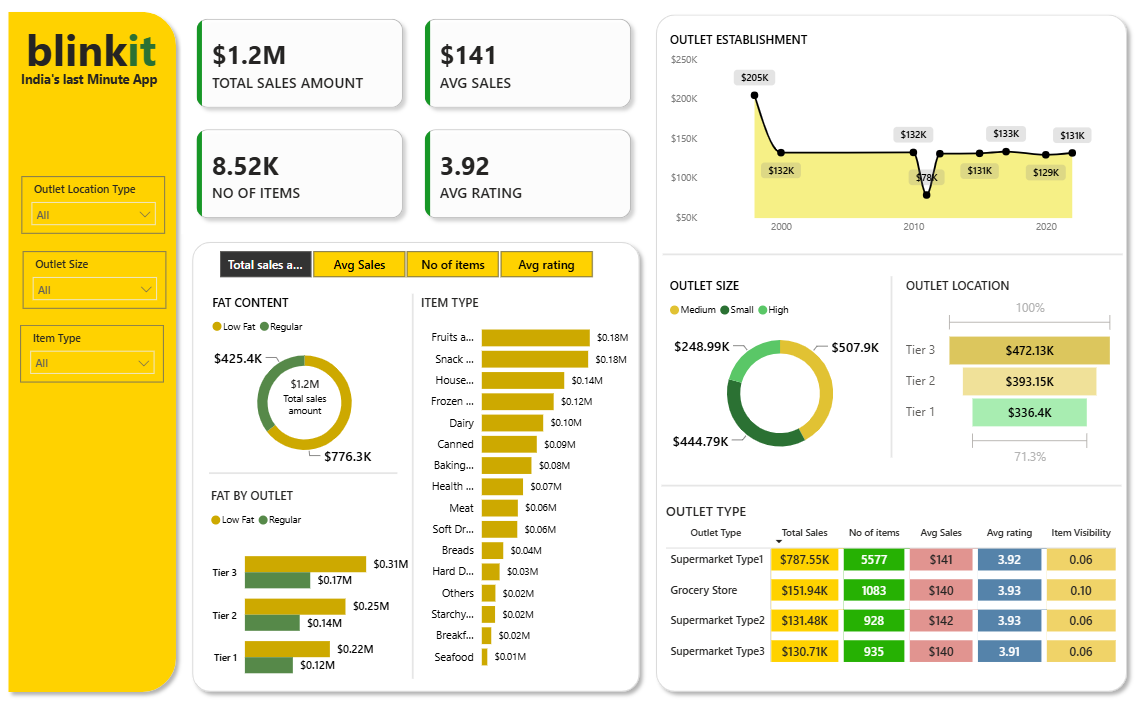

This screenshot's page, from the dashboard's own definition file:
{"tool":"powerbi","page":{"name":"Page 1","canvas":[1300,820],"ordinal":0},"visuals":[{"type":"shape","box":[18.1,26.5,204.9,776.3],"z":0},{"type":"textbox","box":[41.8,39,207.7,92],"z":1000},{"type":"textbox","box":[36.2,96.2,207.7,40.4],"z":2000},{"type":"cardVisual","fields":{"Data":["BlinkIT_Cleaned.Total sales amount","BlinkIT_Cleaned.Avg Sales","BlinkIT_Cleaned.No of items","BlinkIT_Cleaned.Avg rating"]},"box":[220.2,26.5,519.8,256.4],"z":3000},{"type":"shape","box":[223,282.9,517,519.8],"z":4000},{"type":"slicer","fields":{"Values":["Metrics.Metrics"]},"box":[236.9,291.3,465.5,47.4],"z":5000},{"type":"donutChart","title":"FAT CONTENT","fields":{"Y":["BlinkIT_Cleaned.Avg Sales"],"Category":["BlinkIT_Cleaned.Item Fat Content"]},"box":[249.5,349.8,216,197.9],"z":5000},{"type":"cardVisual","fields":{"Data":["BlinkIT_Cleaned.Avg Sales"]},"box":[324.7,437.6,66.9,54.4],"z":6001},{"type":"clusteredBarChart","title":"FAT BY OUTLET","fields":{"Y":["BlinkIT_Cleaned.Avg Sales"],"Category":["BlinkIT_Cleaned.Outlet Location Type"],"Series":["BlinkIT_Cleaned.Item Fat Content"]},"box":[248.1,565.8,230,232.7],"z":7000},{"type":"shape","box":[250.9,543.5,210,12.5],"z":8000},{"type":"shape","box":[461.3,349.8,33.4,429.2],"z":9000},{"type":"barChart","title":"ITEM TYPE","fields":{"Y":["BlinkIT_Cleaned.Avg Sales"],"Category":["BlinkIT_Cleaned.Item Type"]},"box":[482.2,349.8,241.1,429.2],"z":10000},{"type":"shape","box":[740,29.3,543.5,773.5],"z":11000},{"type":"lineChart","title":"OUTLET ESTABLISHMENT","fields":{"Y":["BlinkIT_Cleaned.Total sales amount"],"Category":["BlinkIT_Cleaned.Outlet Establishment Year"]},"box":[756.8,57.1,512.9,235.5],"z":12000},{"type":"shape","box":[756.8,299.6,512.9,12.5],"z":13000},{"type":"donutChart","title":"OUTLET SIZE","fields":{"Y":["Sum(BlinkIT_Cleaned.Total Sales)"],"Category":["BlinkIT_Cleaned.Outlet Size"]},"box":[759.5,331.7,256.4,213.2],"z":13001},{"type":"funnel","title":"OUTLET LOCATION","fields":{"Category":["BlinkIT_Cleaned.Outlet Location Type"],"Y":["Sum(BlinkIT_Cleaned.Total Sales)"]},"box":[1022.9,331.7,242.5,214.6],"z":13002},{"type":"shape","box":[995.1,330.3,33.4,202.1],"z":13003},{"type":"shape","box":[755.4,557.5,512.9,12.5],"z":13004},{"type":"pivotTable","title":"OUTLET TYPE","fields":{"Rows":["BlinkIT_Cleaned.Outlet Type"],"Values":["Sum(BlinkIT_Cleaned.Total Sales)","BlinkIT_Cleaned.No of items","BlinkIT_Cleaned.Avg Sales","BlinkIT_Cleaned.Avg rating","Avg(BlinkIT_Cleaned.Item Visibility)"]},"box":[755.4,581.2,528.2,200.7],"z":13005},{"type":"slicer","fields":{"Values":["BlinkIT_Cleaned.Outlet Location Type"]},"box":[41.8,218.8,160.3,64.1],"z":13006},{"type":"slicer","fields":{"Values":["BlinkIT_Cleaned.Outlet Size"]},"box":[43.2,302.4,160.3,64.1],"z":13007},{"type":"slicer","fields":{"Values":["BlinkIT_Cleaned.Item Type"]},"box":[40.4,384.6,160.3,64.1],"z":13008}]}

Visuals, with their boxes in screenshot pixels (x1, y1, x2, y2), scaled from the page's 1300x820 canvas onto the 1138x707 screenshot:
shape: crop(16, 23, 195, 692)
textbox: crop(37, 34, 218, 113)
textbox: crop(32, 83, 214, 118)
cardVisual - BlinkIT_Cleaned.Total sales amount x BlinkIT_Cleaned.Avg Sales: crop(193, 23, 648, 244)
shape: crop(195, 244, 648, 692)
slicer - Metrics.Metrics: crop(207, 251, 615, 292)
"FAT CONTENT" donutChart: crop(218, 302, 407, 472)
cardVisual - BlinkIT_Cleaned.Avg Sales: crop(284, 377, 343, 424)
"FAT BY OUTLET" clusteredBarChart: crop(217, 488, 419, 688)
shape: crop(220, 469, 403, 479)
shape: crop(404, 302, 433, 672)
"ITEM TYPE" barChart: crop(422, 302, 633, 672)
shape: crop(648, 25, 1124, 692)
"OUTLET ESTABLISHMENT" lineChart: crop(662, 49, 1111, 252)
shape: crop(662, 258, 1111, 269)
"OUTLET SIZE" donutChart: crop(665, 286, 889, 470)
"OUTLET LOCATION" funnel: crop(895, 286, 1108, 471)
shape: crop(871, 285, 900, 459)
shape: crop(661, 481, 1110, 491)
"OUTLET TYPE" pivotTable: crop(661, 501, 1124, 674)
slicer - BlinkIT_Cleaned.Outlet Location Type: crop(37, 189, 177, 244)
slicer - BlinkIT_Cleaned.Outlet Size: crop(38, 261, 178, 316)
slicer - BlinkIT_Cleaned.Item Type: crop(35, 332, 176, 387)
